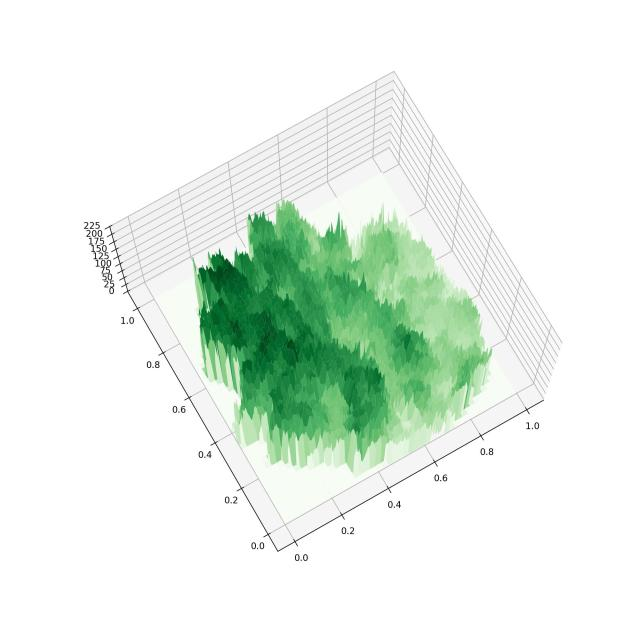fir: (52, 39, 586, 606)
